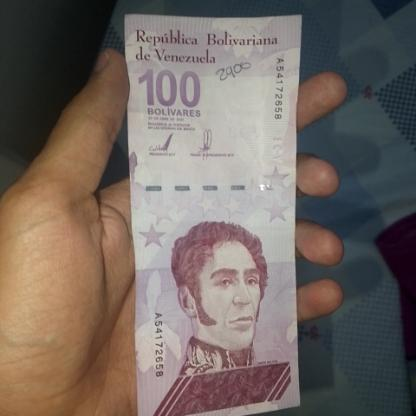one_hundred-front-vef: (125, 16, 304, 416)
